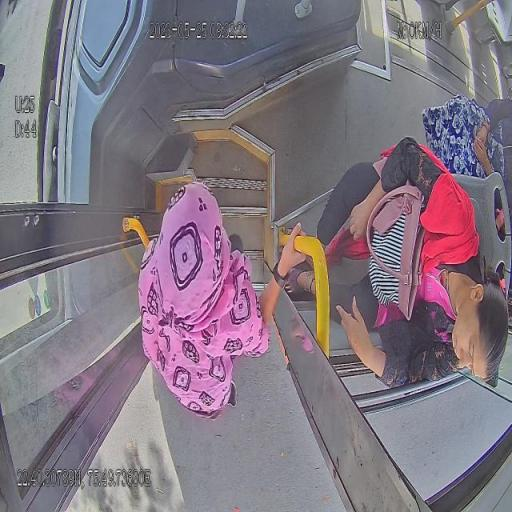persona: (282, 136, 508, 390), (136, 180, 310, 416), (421, 94, 508, 238)
